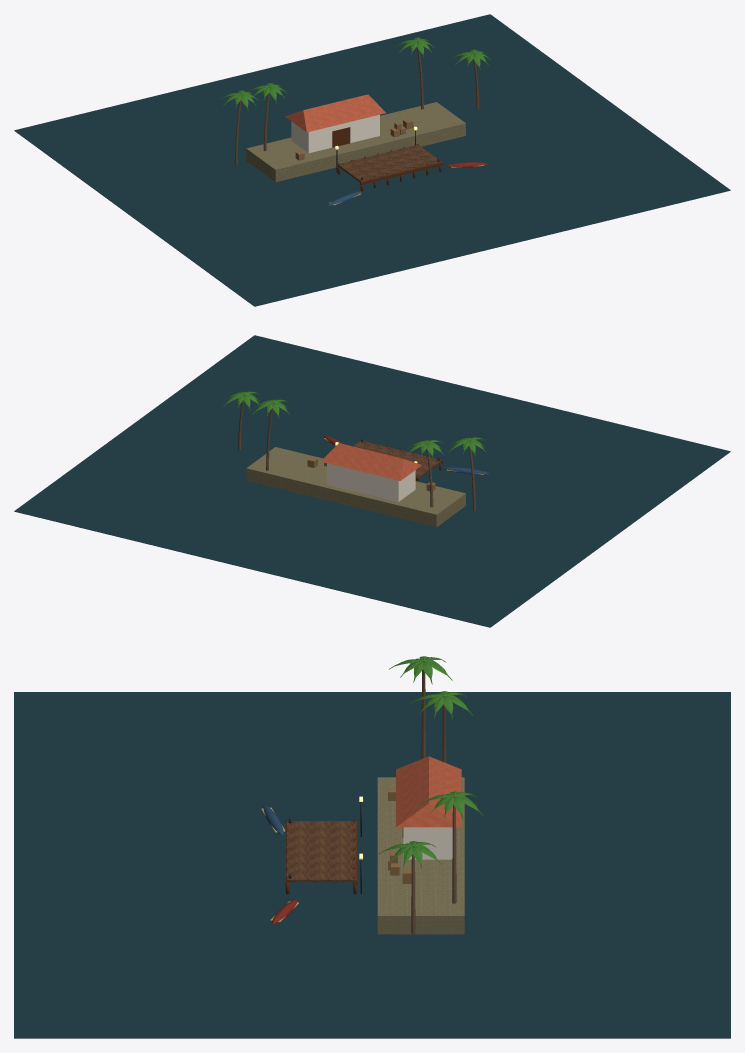
The model's file is docks.glb.
3 views of the same model, one above another, from view 1: azimuth 30°, elevation 25°; view 2: azimuth 150°, elevation 25°; view 3: azimuth 270°, elevation 25° (orthographic). The views are drawn at different scales.
Visible parts, largest first — view 1: sea, wharf, deck, godown_roof, godown, palm3, palm1, palm0; view 2: sea, wharf, godown_roof, godown, deck, palm3, palm1, palm0; view 3: sea, wharf, deck, godown_roof, godown, palm1, palm3, palm2, palm0.
Part boxes in pixels (bbox=[...]): sea: bbox=[14, 14, 730, 306]; wharf: bbox=[246, 102, 465, 182]; deck: bbox=[337, 145, 441, 182]; godown_roof: bbox=[285, 94, 385, 132]; godown: bbox=[291, 114, 379, 153]; palm3: bbox=[220, 90, 258, 164]; palm1: bbox=[395, 37, 434, 109]; palm0: bbox=[248, 83, 287, 151]; sea: bbox=[14, 335, 730, 627]; wharf: bbox=[246, 447, 465, 526]; godown_roof: bbox=[321, 443, 421, 480]; godown: bbox=[327, 463, 415, 501]; deck: bbox=[353, 441, 441, 477]; palm3: bbox=[448, 437, 486, 511]; palm1: bbox=[252, 399, 289, 470]; palm0: bbox=[406, 440, 444, 507]; sea: bbox=[14, 692, 730, 1038]; wharf: bbox=[377, 777, 464, 934]; deck: bbox=[286, 821, 355, 882]; godown_roof: bbox=[396, 756, 461, 827]; godown: bbox=[403, 827, 452, 859]; palm1: bbox=[419, 791, 483, 903]; palm3: bbox=[389, 656, 452, 758]; palm2: bbox=[379, 841, 442, 934]; palm0: bbox=[409, 691, 472, 762].
Size of the model in its own units: 80 by 13.71 by 70.
18 materials, 3 textured.
